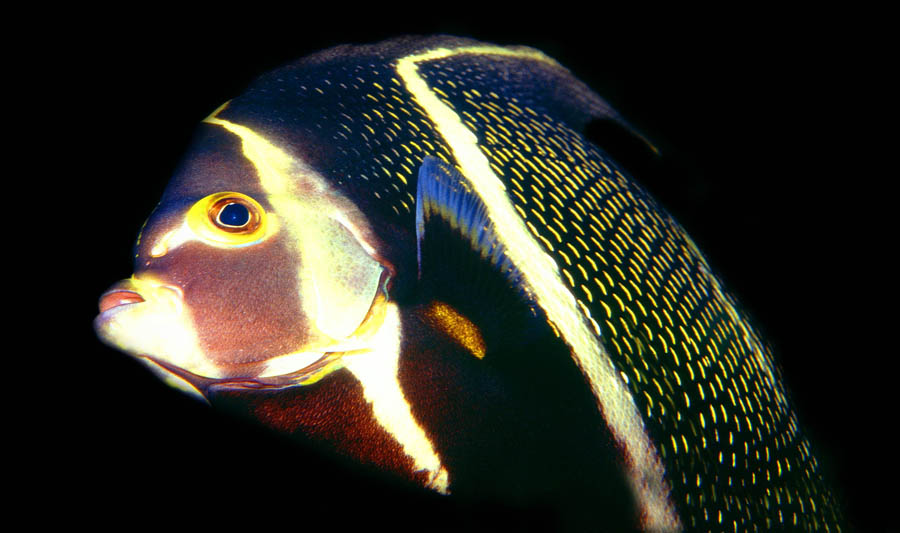Pomacanthus_paru: (71, 4, 847, 533)
